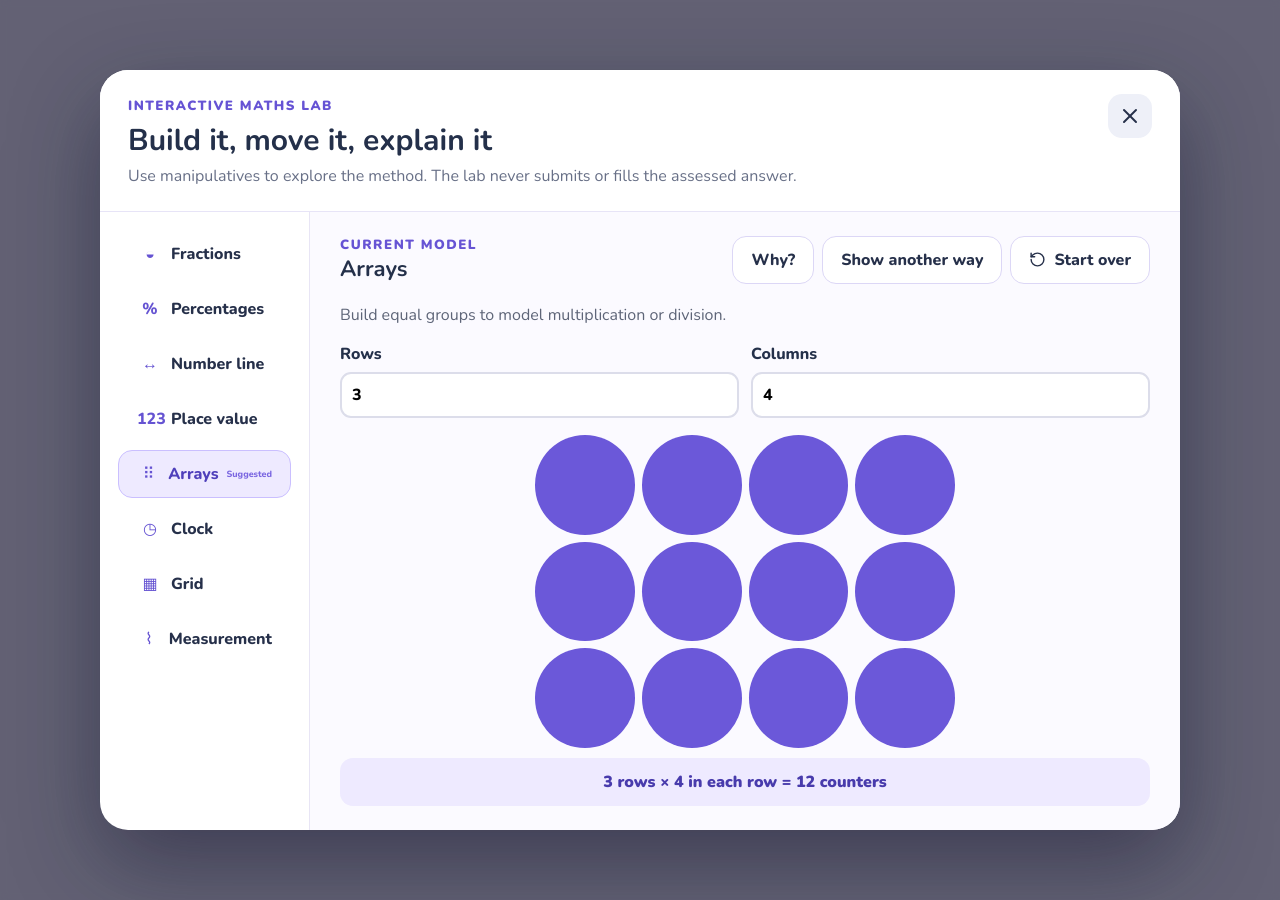
Test: interactive Maths Lab › builds an array and resets the current model
Replace the text in the number field named "Array rows" with "5": coordinates (540, 395) [340,372,739,418]
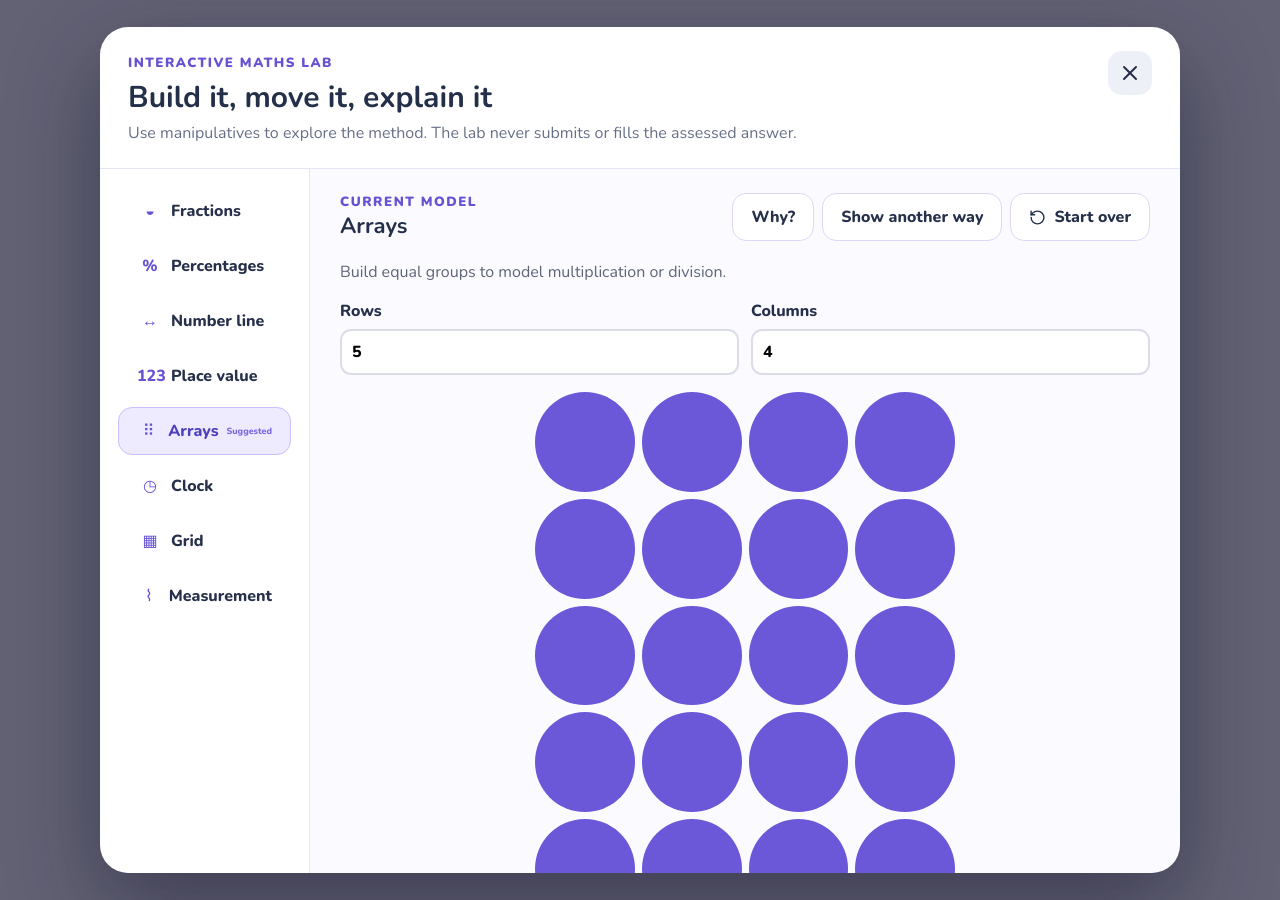
Replace the text in the number field named "Array columns" with "6": coordinates (950, 352) [751,329,1150,375]
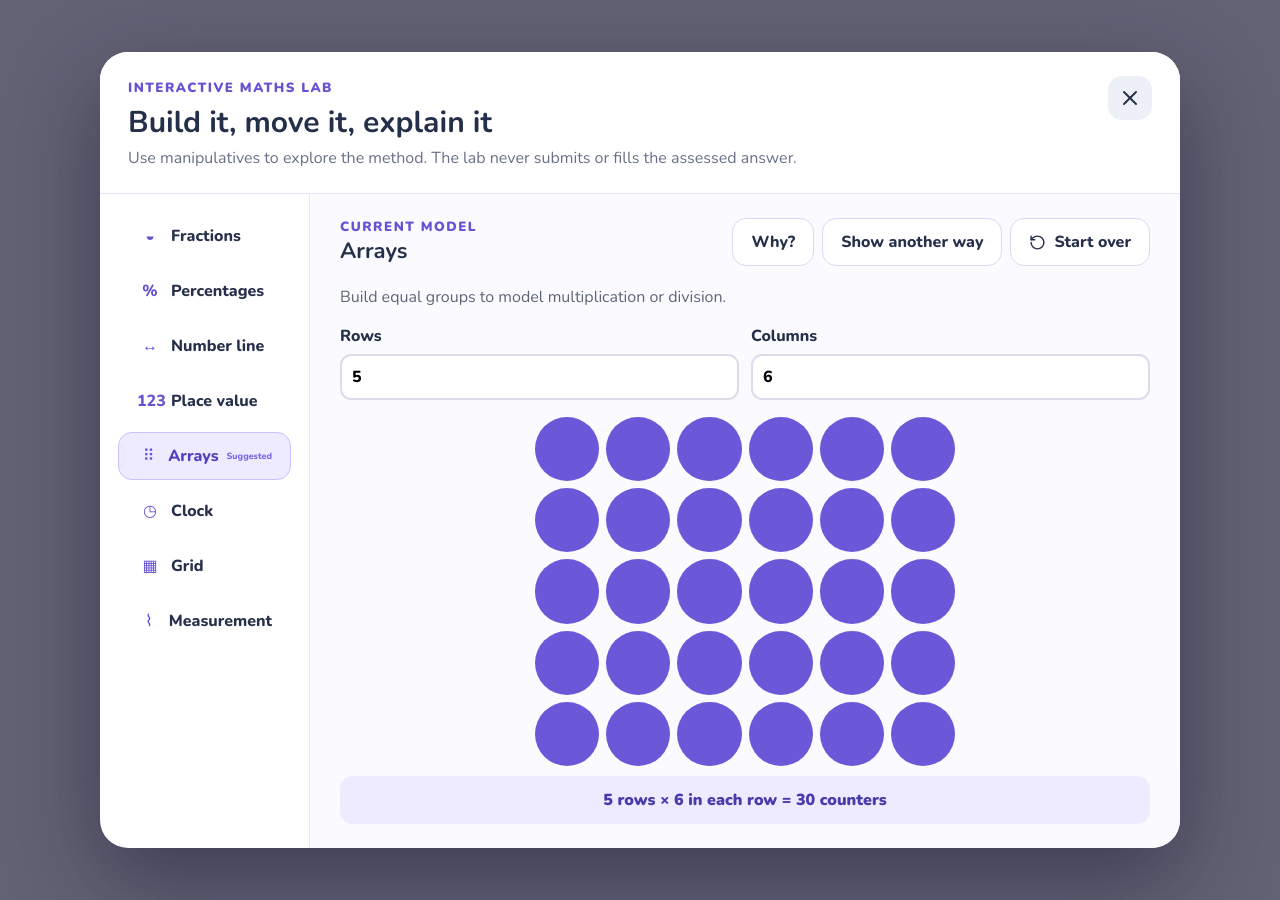
expect the text "5 rows × 6 in each row = 30 counters" is shown: met, box [340,776,1150,824]
Click the button "Start over": coordinates (1080, 242) [1010,218,1150,266]
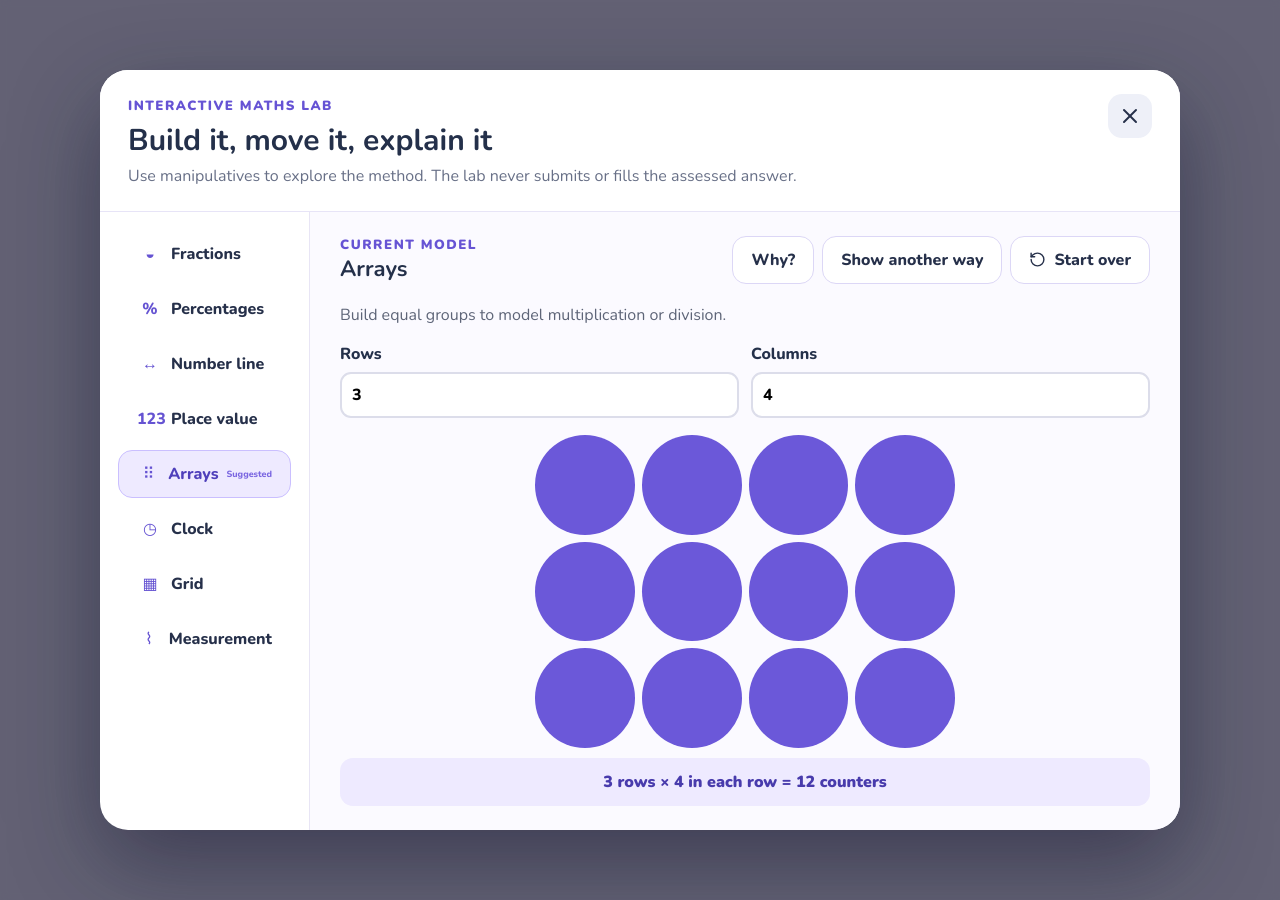
expect the text "3 rows × 4 in each row = 12 counters" is shown: met, box [340,758,1150,806]
